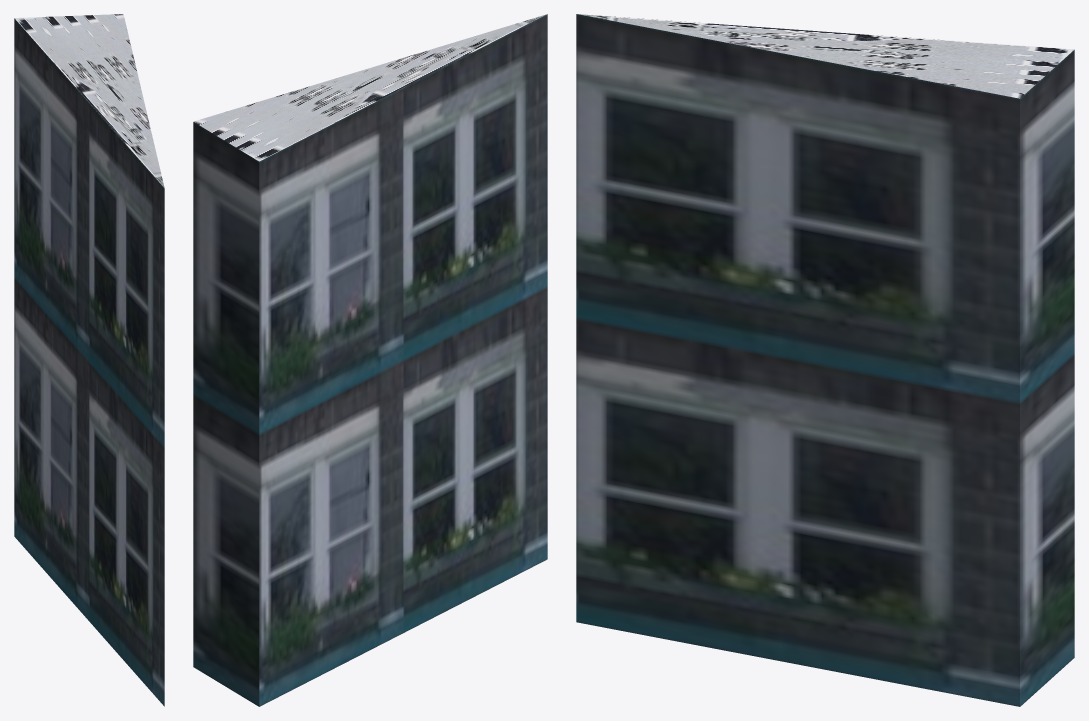
Rendered from ResTex__5286.fbx.
The picture shows the model from 3 angles, left to right: view 1: azimuth 30°, elevation 25°; view 2: azimuth 150°, elevation 25°; view 3: azimuth 270°, elevation 25°; orthographic projection. The views are drawn at different scales.
Parts seen in each view (by area): view 1: CityEngineMaterial_11_m, CityEngineMaterial_2_m; view 2: CityEngineMaterial_11_m, CityEngineMaterial_2_m; view 3: CityEngineMaterial_11_m, CityEngineMaterial_2_m.
Part boxes in pixels (bbox=[...]): CityEngineMaterial_11_m: bbox=[14, 18, 164, 706]; CityEngineMaterial_2_m: bbox=[14, 14, 164, 187]; CityEngineMaterial_11_m: bbox=[193, 14, 547, 706]; CityEngineMaterial_2_m: bbox=[193, 14, 546, 161]; CityEngineMaterial_11_m: bbox=[576, 14, 1074, 706]; CityEngineMaterial_2_m: bbox=[577, 14, 1074, 98].
Size of the model in its own units: 1.79 by 6 by 4.46.
2 materials, 2 textured.
